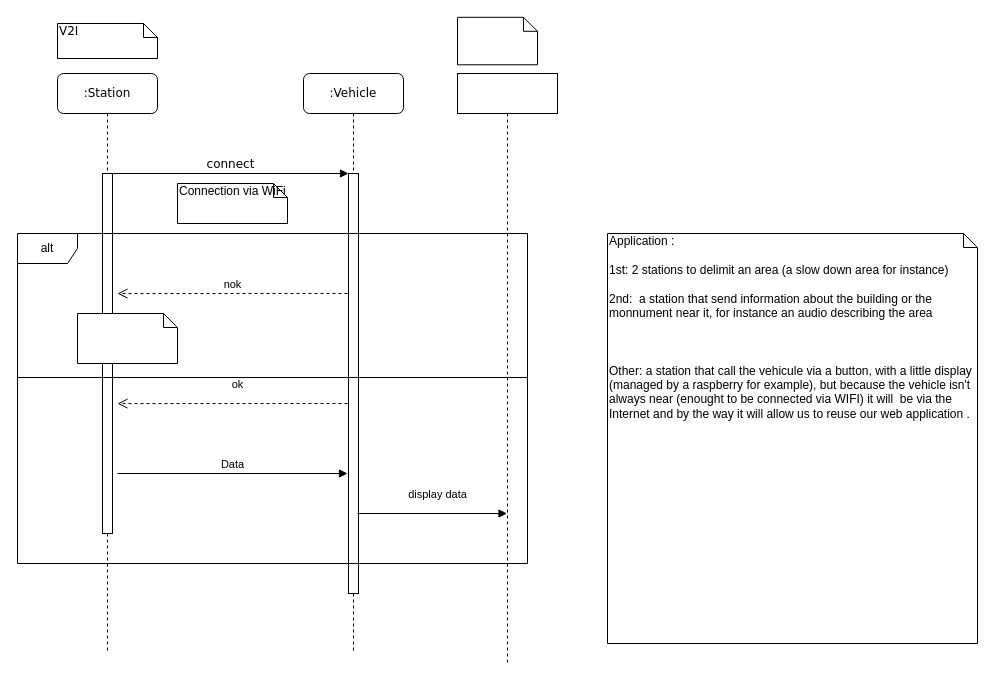
The diagram is 995 pixels wide and 682 high, and some of its shapes have lost their labels. Each missing label, with the box of its shape:
:Displayer: (456, 72, 558, 664)
Connection Error: (76, 312, 178, 364)
Speaker or Monitor: (456, 16, 538, 65)
